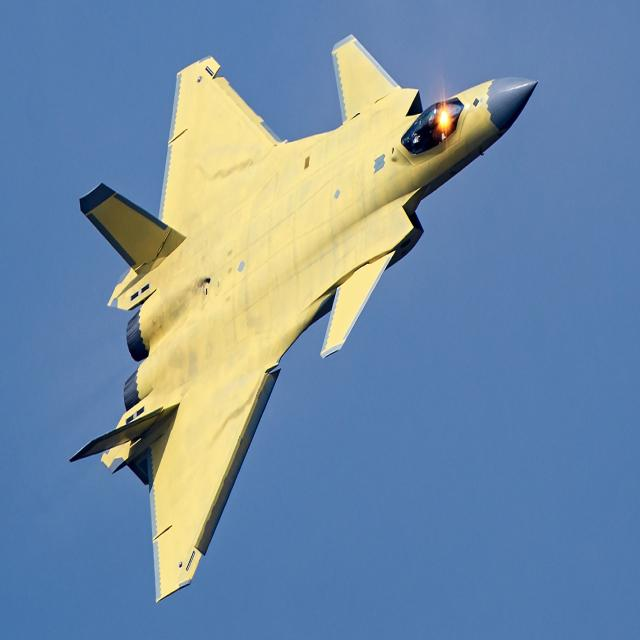MIL_Plane: (69, 33, 538, 603)
